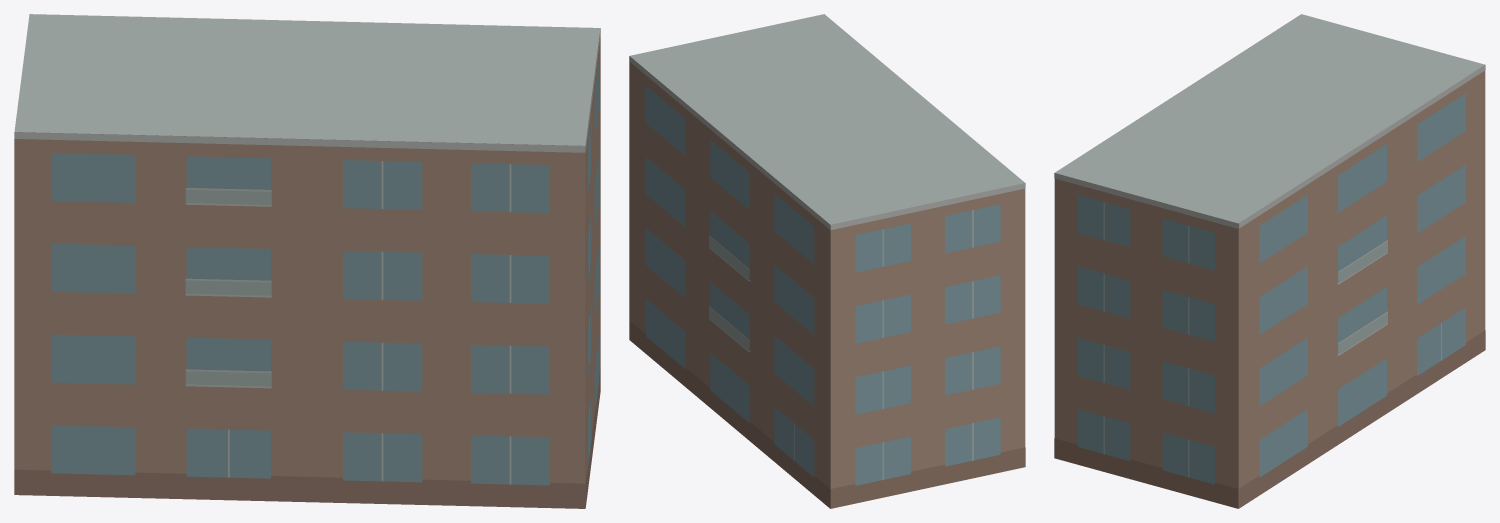
Rendered from survey-upis-32918584.glb.
3 renders of one model, left to right at view 1: azimuth 30°, elevation 25°; view 2: azimuth 150°, elevation 25°; view 3: azimuth 270°, elevation 25°, orthographic. The views are drawn at different scales.
Visible parts, largest first — view 1: survey-upis-32918584.tmp; view 2: survey-upis-32918584.tmp; view 3: survey-upis-32918584.tmp.
Boxes of the visible parts, x1,y1,x2,y2 form: survey-upis-32918584.tmp: (14,14,600,508); survey-upis-32918584.tmp: (629,14,1025,508); survey-upis-32918584.tmp: (1054,14,1485,508).
Bounding box in the file's own units: 20 × 12.7 × 17.39.
